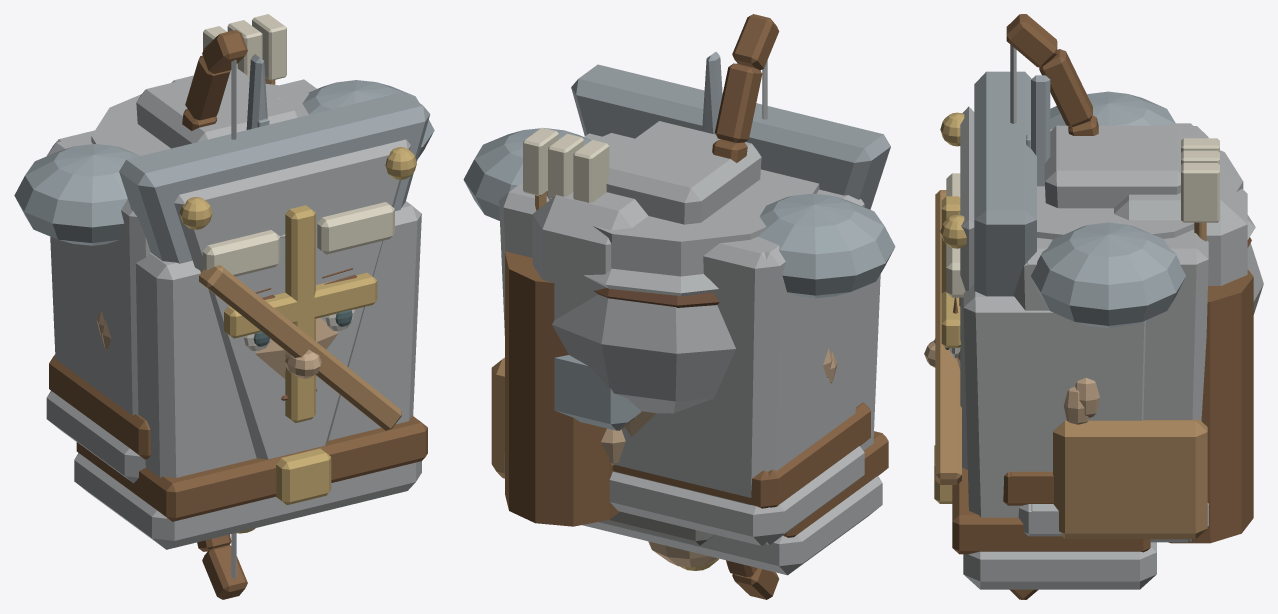
File: KingdomsMeshNeutral.gltf
The picture shows the model from 3 angles, left to right: view 1: azimuth 30°, elevation 25°; view 2: azimuth 150°, elevation 25°; view 3: azimuth 270°, elevation 25°; orthographic projection. The views are drawn at different scales.
Visible parts, largest first — view 1: Archer_Torso__Neutral, Defender_LeftArm__Neutral, Peasant_Torso__Neutral, Defender_Torso__Neutral, Archer_LeftArm__Neutral, Archer_LeftLeg__Neutral, Peasant_Head__Neutral, Archer_Head__Neutral, Defender_RightArm__Neutral, Runner_Torso__Neutral; view 2: Archer_Torso__Neutral, Runner_Torso__Neutral, Defender_LeftArm__Neutral, Peasant_Torso__Neutral, Archer_Head__Neutral, Defender_Torso__Neutral, Peasant_Head__Neutral, Archer_LeftLeg__Neutral, Archer_LeftArm__Neutral, Defender_RightArm__Neutral; view 3: Archer_Torso__Neutral, Defender_LeftArm__Neutral, Defender_Torso__Neutral, Peasant_Torso__Neutral, Archer_LeftLeg__Neutral, Runner_Torso__Neutral, Archer_LeftArm__Neutral, Peasant_Head__Neutral, Defender_RightArm__Neutral, Archer_Head__Neutral.
Boxes of the visible parts, x1,y1,x2,y2 form: Archer_Torso__Neutral: (74,14,427,549); Defender_LeftArm__Neutral: (119,75,430,459); Peasant_Torso__Neutral: (46,83,310,483); Defender_Torso__Neutral: (14,80,434,245); Archer_LeftArm__Neutral: (182,30,247,599); Archer_LeftLeg__Neutral: (136,68,301,148); Peasant_Head__Neutral: (91,84,352,358); Archer_Head__Neutral: (101,274,356,400); Defender_RightArm__Neutral: (237,54,269,533); Runner_Torso__Neutral: (50,79,316,357); Archer_Torso__Neutral: (505,127,888,575); Runner_Torso__Neutral: (499,133,776,545); Defender_LeftArm__Neutral: (532,64,890,465); Peasant_Torso__Neutral: (491,135,870,544); Archer_Head__Neutral: (552,294,837,413); Defender_Torso__Neutral: (463,128,895,545); Peasant_Head__Neutral: (546,133,832,436); Archer_LeftLeg__Neutral: (601,121,761,545); Archer_LeftArm__Neutral: (712,14,779,599); Defender_RightArm__Neutral: (648,52,722,570); Archer_Torso__Neutral: (934,138,1253,589); Defender_LeftArm__Neutral: (940,71,1247,469); Defender_Torso__Neutral: (1003,91,1192,542); Peasant_Torso__Neutral: (1037,123,1207,539); Archer_LeftLeg__Neutral: (1044,125,1188,208); Runner_Torso__Neutral: (1010,126,1208,541); Archer_LeftArm__Neutral: (1006,14,1098,599); Peasant_Head__Neutral: (934,129,1255,417); Defender_RightArm__Neutral: (1026,75,1050,186); Archer_Head__Neutral: (924,243,1263,424).
Size of the model in its own units: 0.98 by 1.32 by 0.702.
